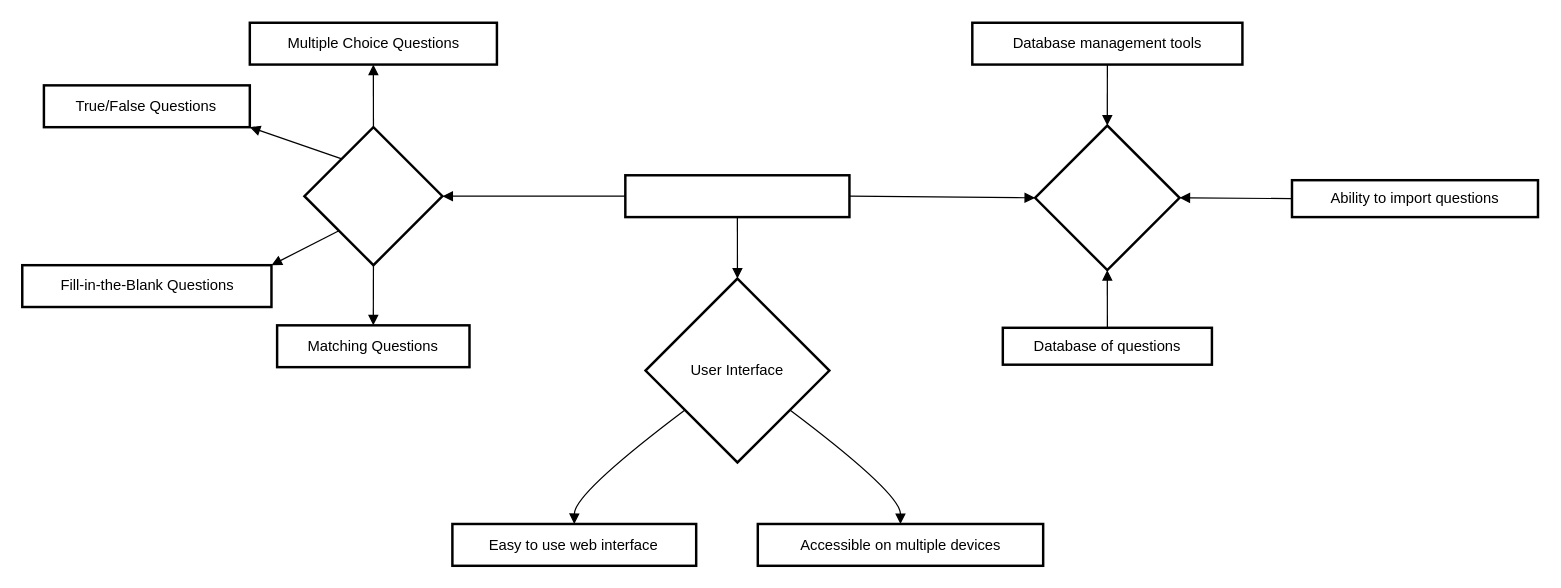
This 1561x588 diagram has some shape labels left out. Here are the shapes that lost their labels. From the top down, the box of each, then its label:
(303, 125, 443, 266): Features
(623, 173, 850, 218): Quiz Generator Service
(1033, 124, 1180, 271): Database
